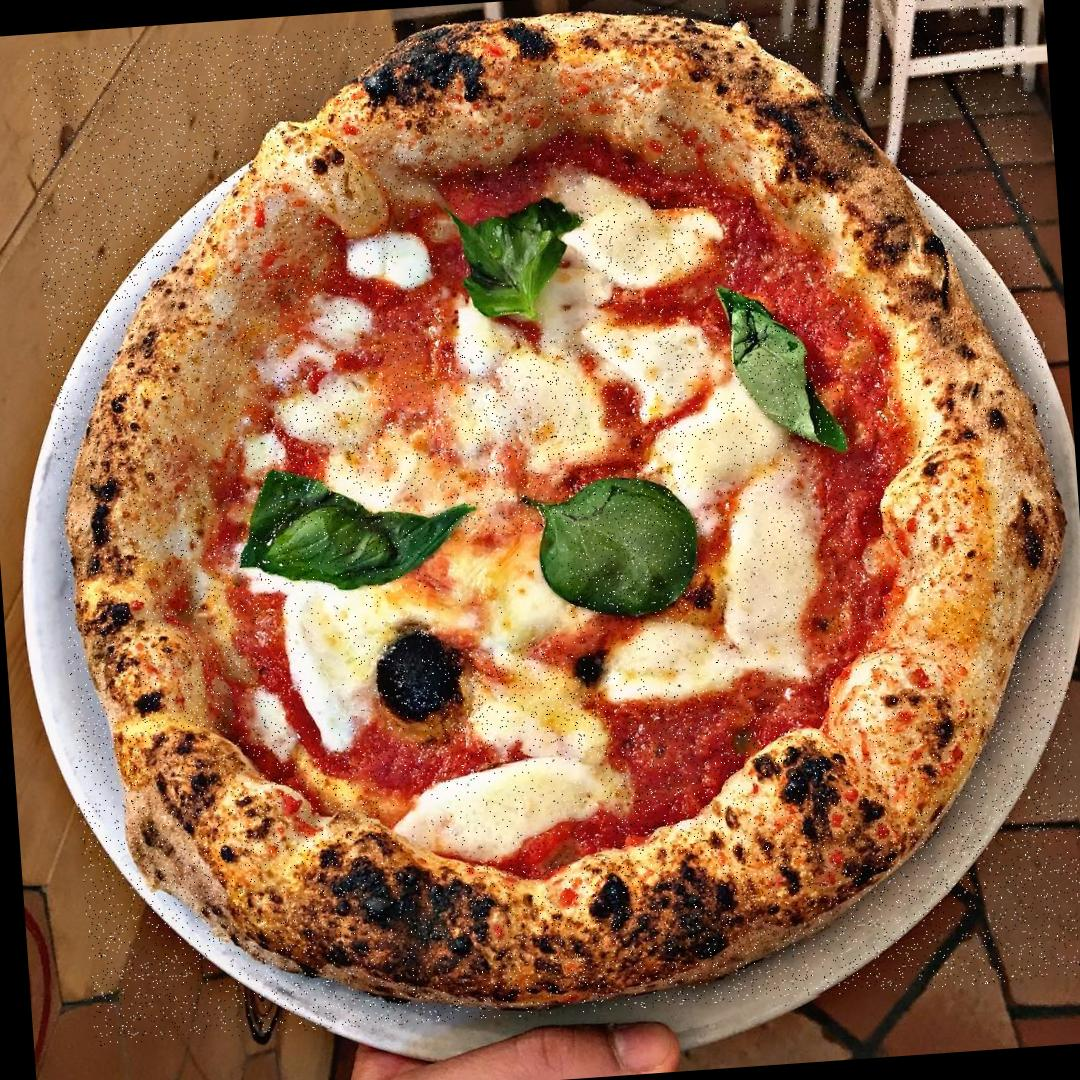Basil: (247, 454, 479, 592), (517, 473, 718, 618), (720, 283, 850, 474), (437, 194, 586, 337)
Cheese: (431, 327, 626, 477), (378, 759, 614, 874), (278, 578, 428, 758), (708, 480, 835, 683), (273, 369, 424, 504), (424, 534, 574, 650), (652, 376, 787, 494), (564, 618, 752, 700), (461, 654, 600, 762), (584, 180, 716, 289)
Pizza: (26, 0, 1080, 1047)
